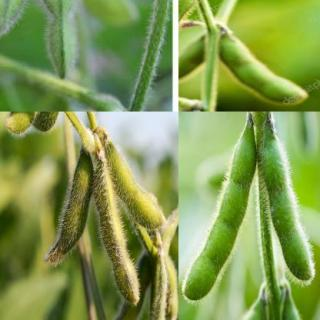soya: (182, 122, 255, 303), (262, 122, 316, 284), (93, 159, 142, 306), (217, 33, 308, 106), (42, 156, 94, 265), (105, 139, 167, 229), (102, 256, 152, 320), (41, 0, 81, 78), (142, 254, 168, 319), (178, 36, 207, 90), (4, 111, 51, 137), (165, 254, 178, 319), (32, 112, 70, 132)
